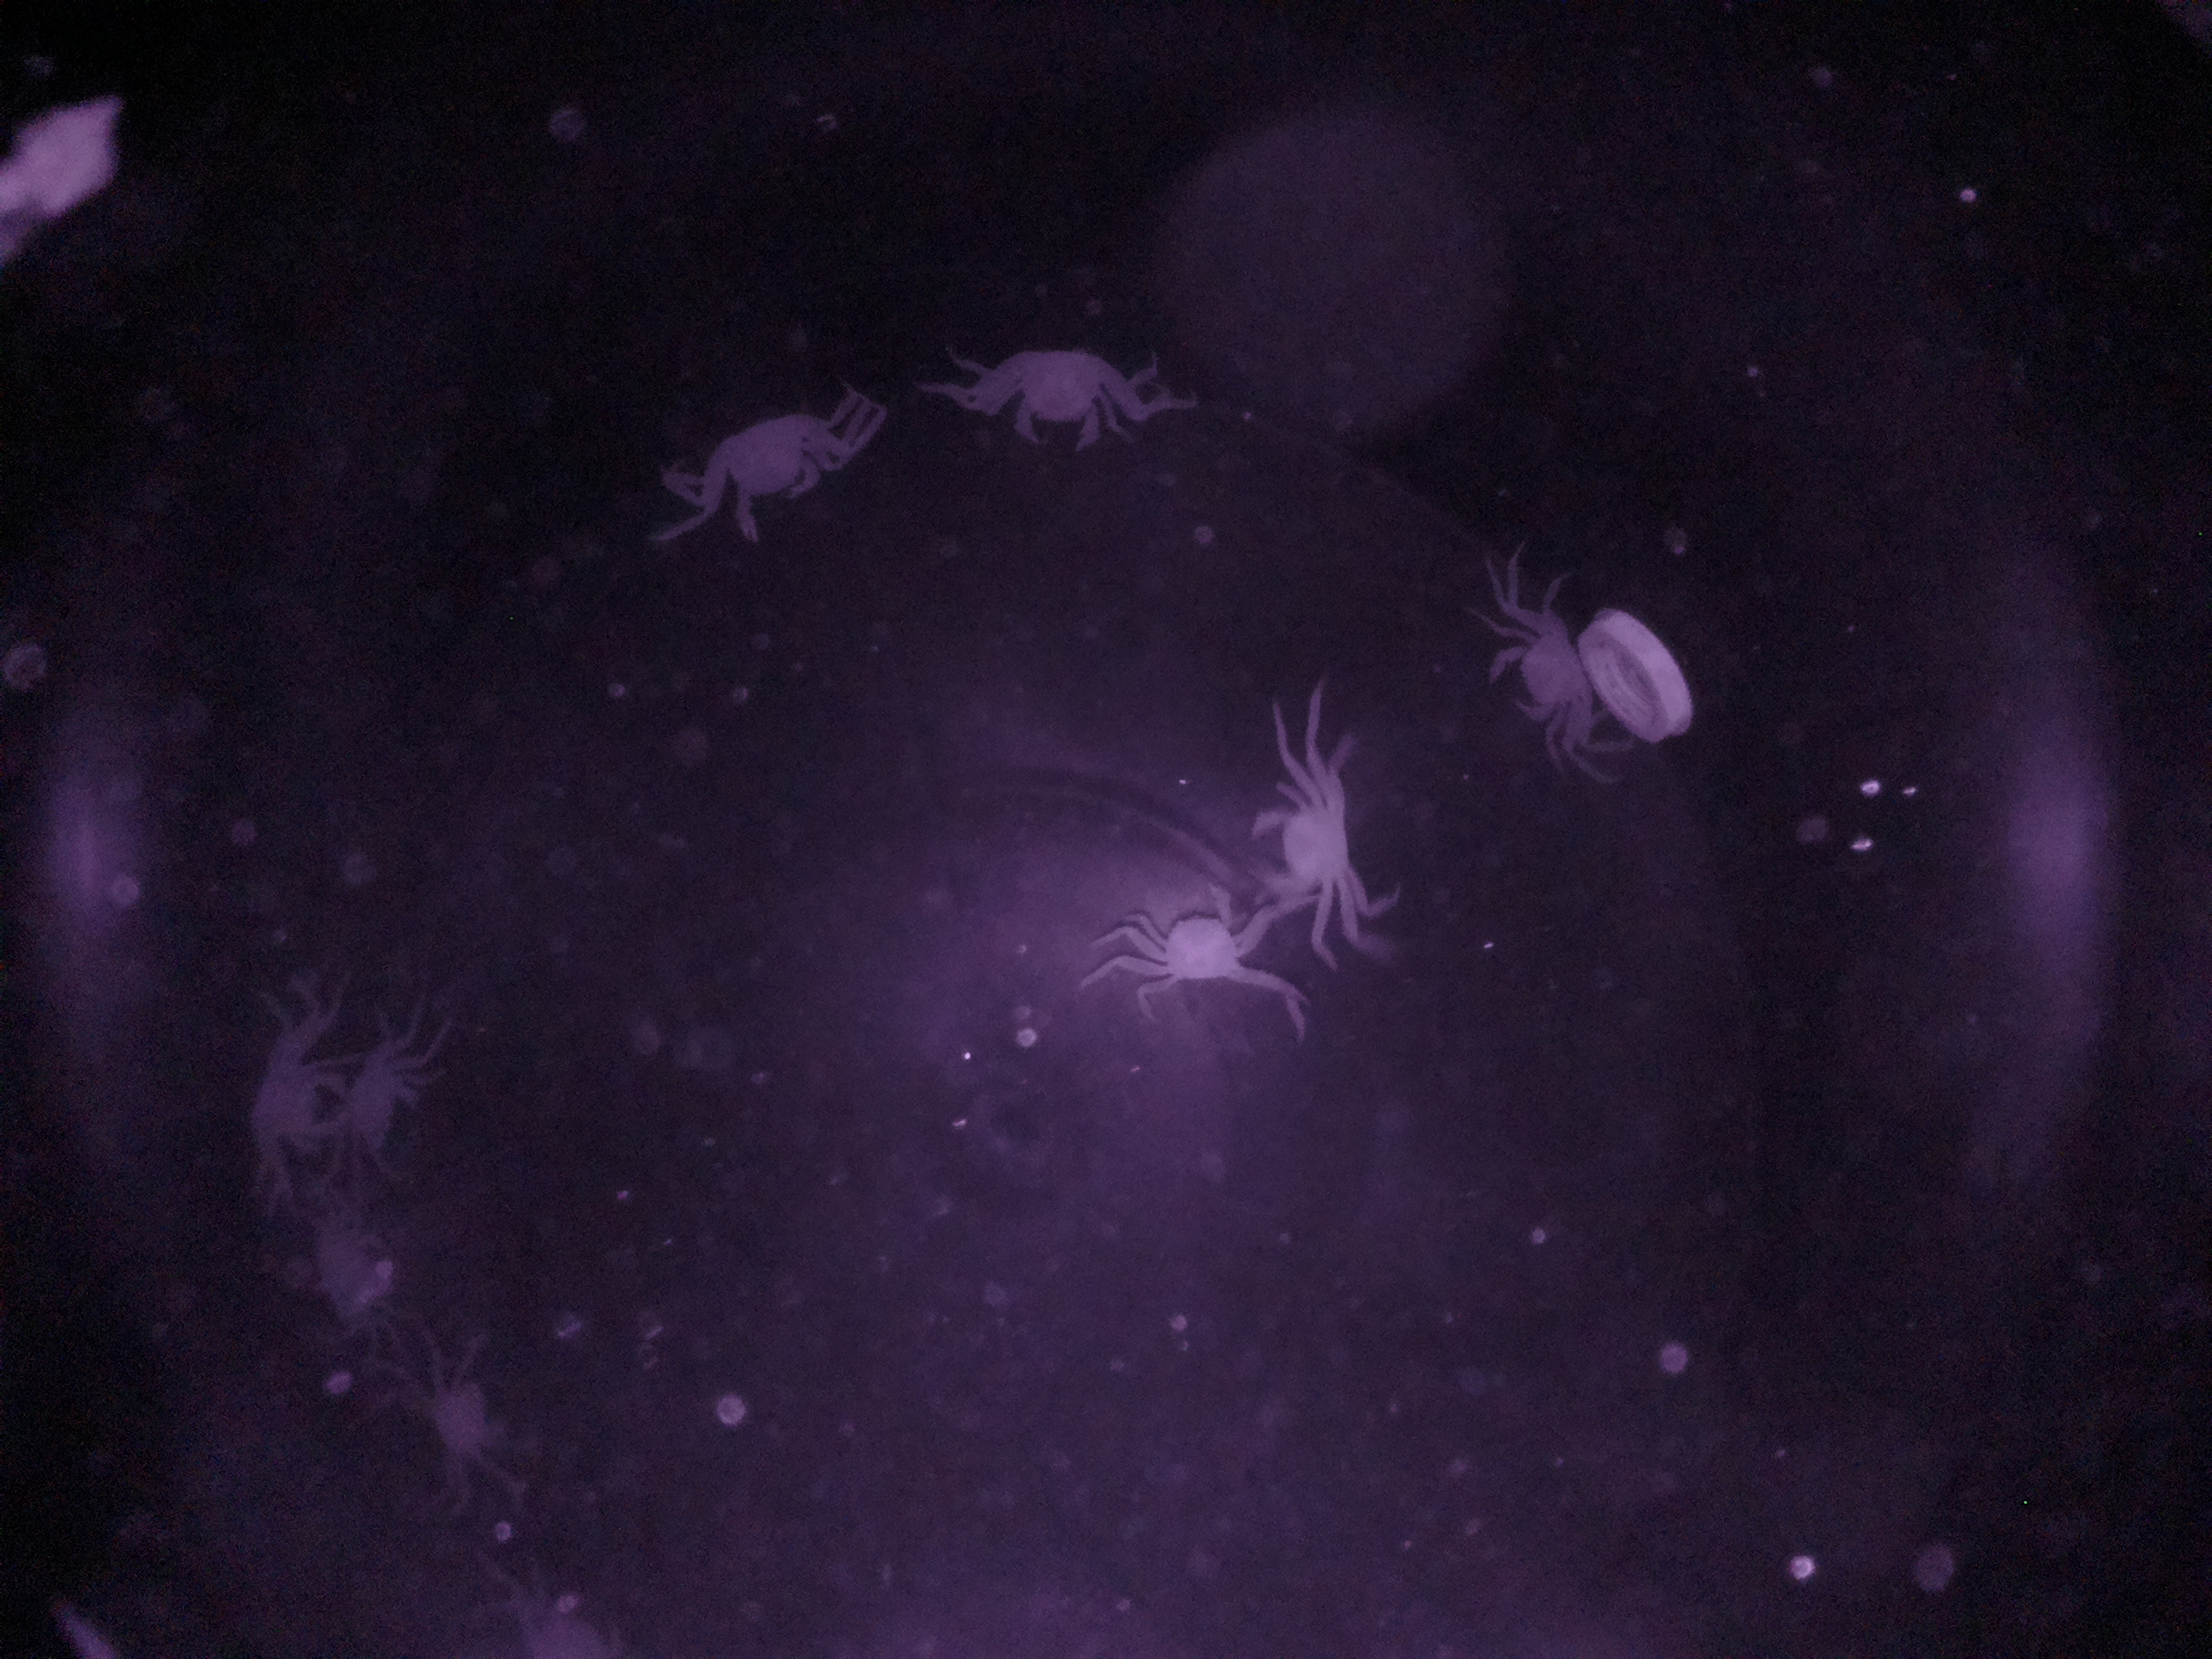Crab: (963, 321, 1144, 465), (679, 380, 840, 542), (1242, 770, 1374, 932), (1460, 608, 1606, 746), (1118, 875, 1271, 999)
